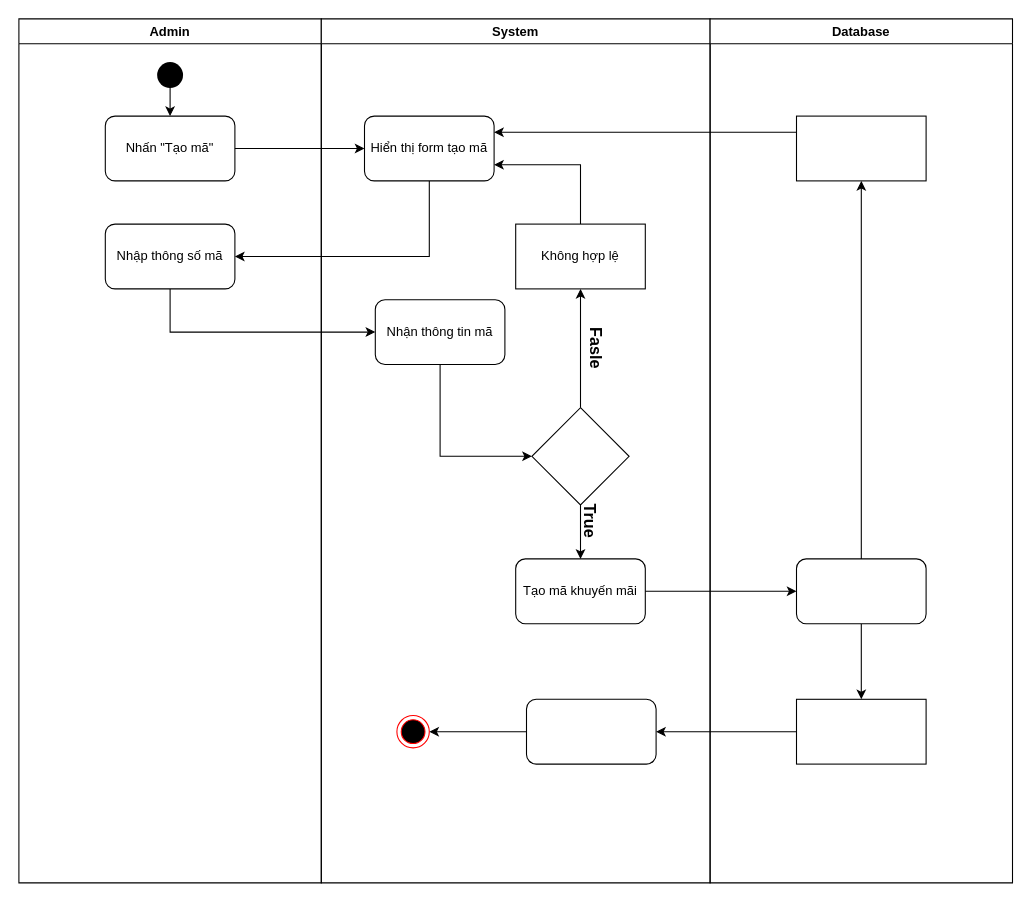
Some shapes in this 1031 by 902 pixel diagram are drawn without their labels. The centre of each missing label's shape, as x and y in pixels:
"Lỗi Database" belongs at point (860, 148).
"Thành công / Redirect" belongs at point (860, 731).
"Thực thi lệnh Insert" belongs at point (860, 591).
"Trở về trang quản lí voucher" belongs at point (590, 731).
"Validate dữ liệu" belongs at point (580, 456).
